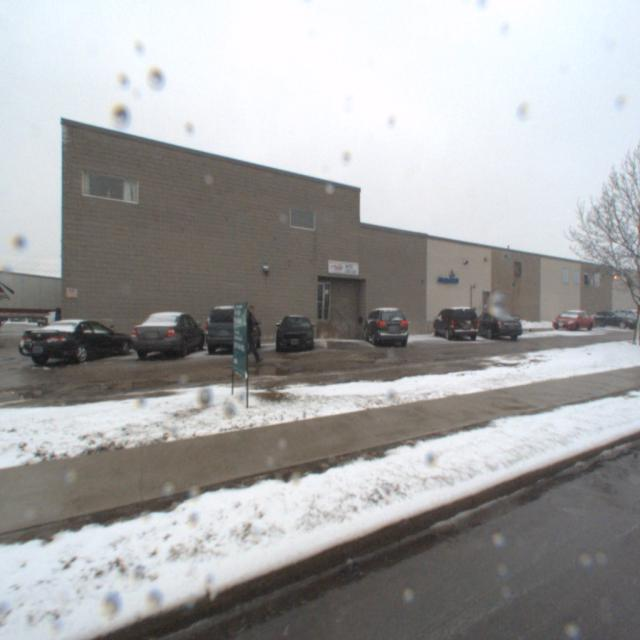Car: (10, 312, 134, 364), (125, 307, 203, 357), (201, 304, 261, 354), (360, 307, 410, 349), (462, 312, 524, 344), (428, 306, 480, 343), (274, 310, 314, 352), (579, 316, 639, 336), (546, 314, 592, 336)
